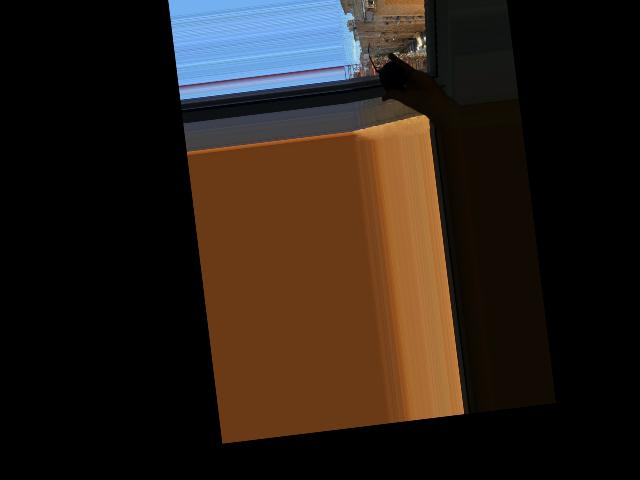beet: (366, 38, 407, 92)
